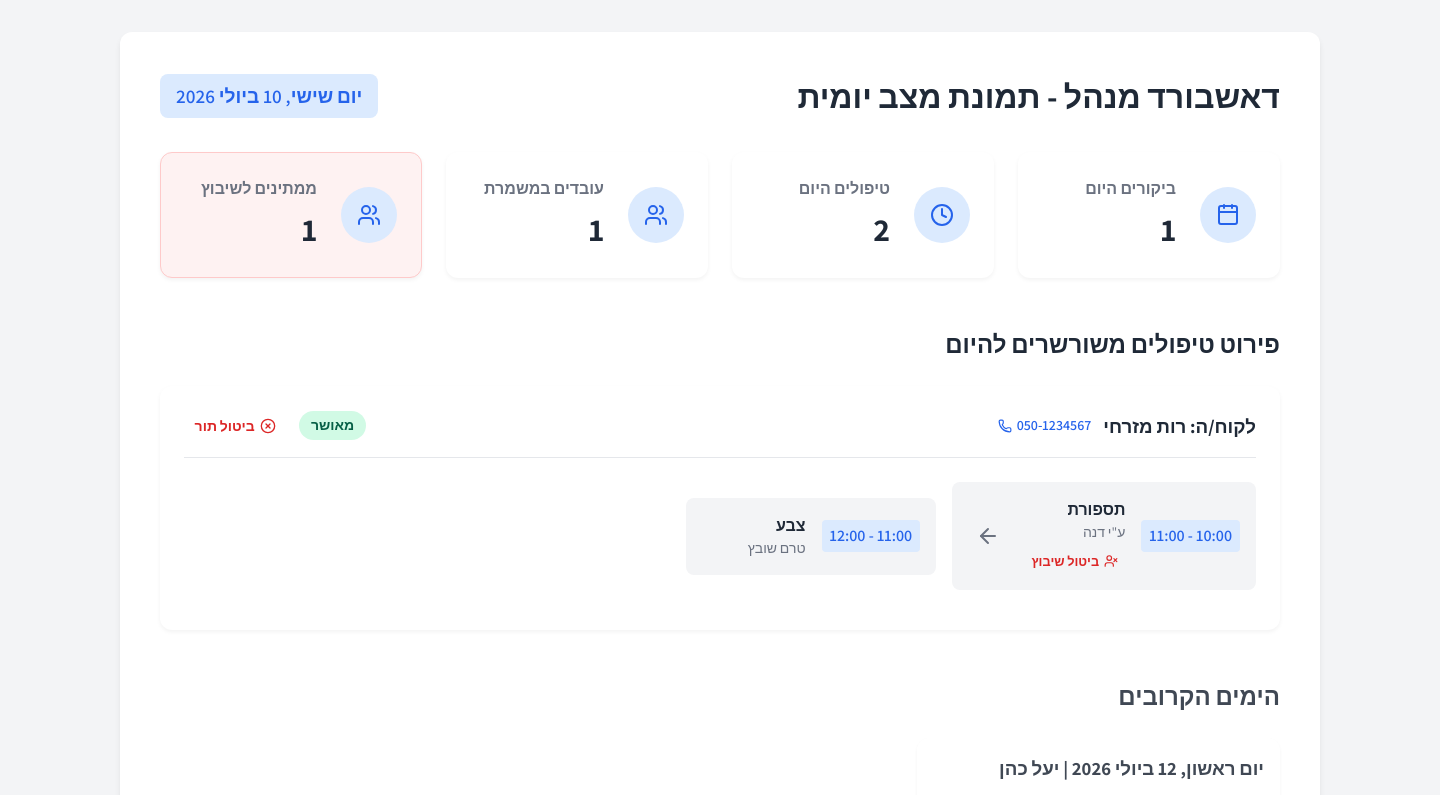
it: ManagerDashboardPage › cancelling an appointment › surfaces a friendly error and refetches when the cancel fails
The image size is (1440, 795).
Expected: the heading "לקוח/ה: רות מזרחי" is shown, [1103,412,1256,440]
What coordinates should you click on to do the following:
click the button "ביטול תור"
I would click on:
 (236, 426)
Its box is [184,410,287,441].
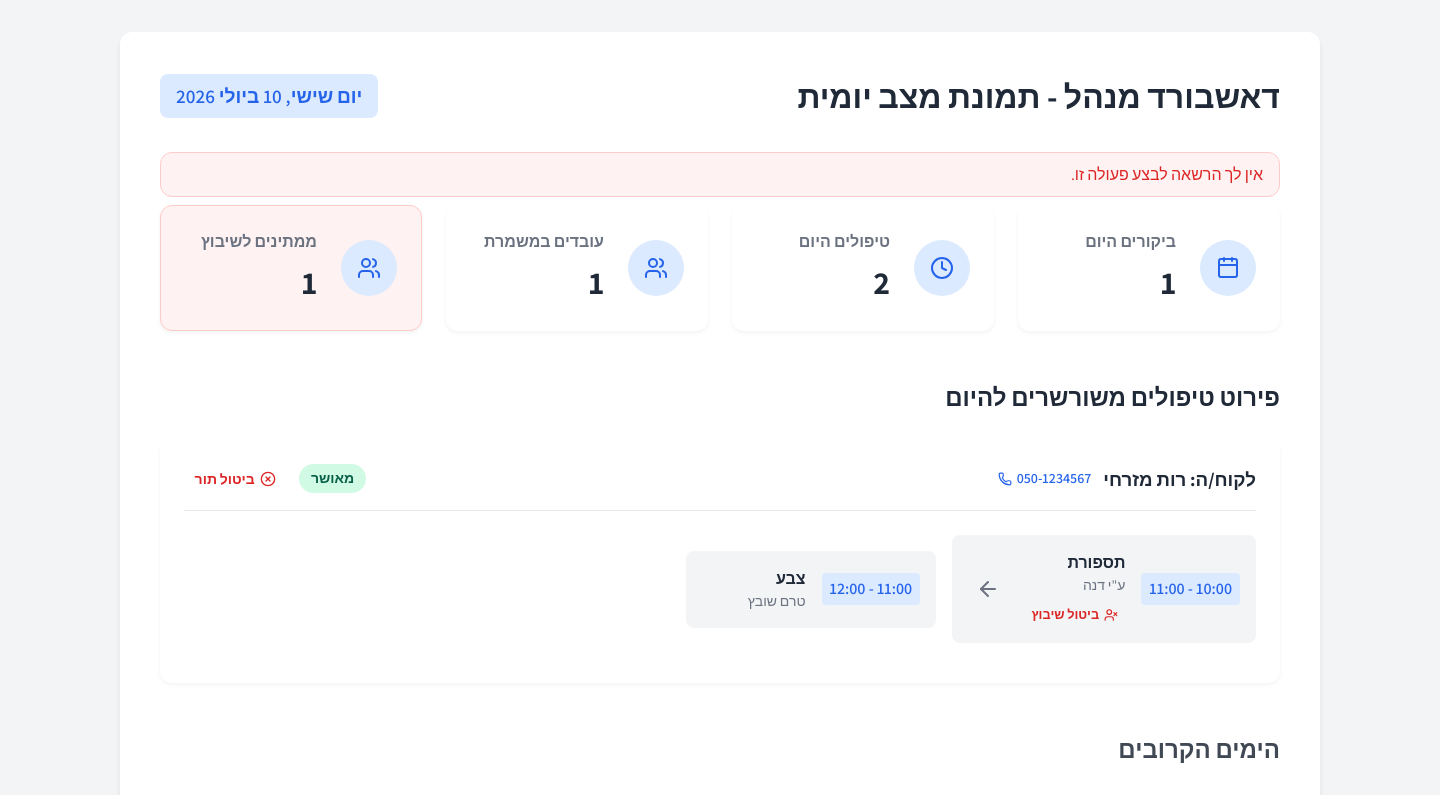
Expected: the text "אין לך הרשאה לבצע פעולה זו." is shown, [160,152,1280,197]
